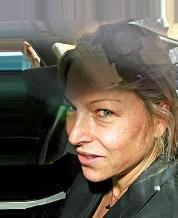face: (63, 96, 117, 166)
